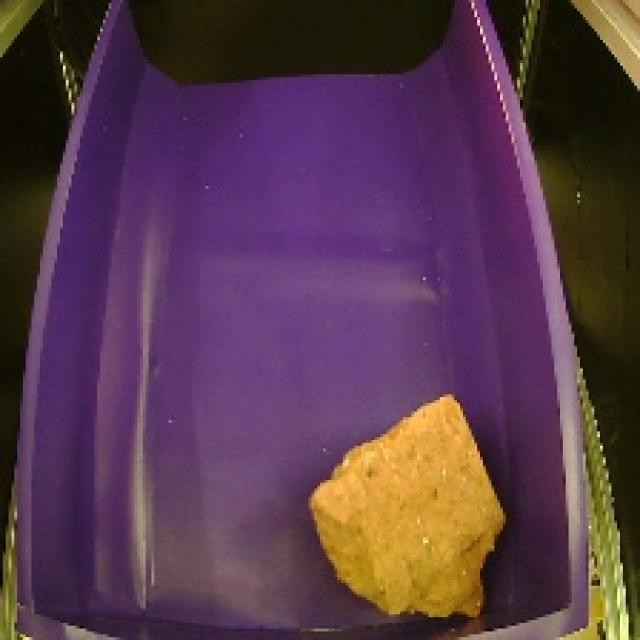brick: (296, 380, 514, 628)
